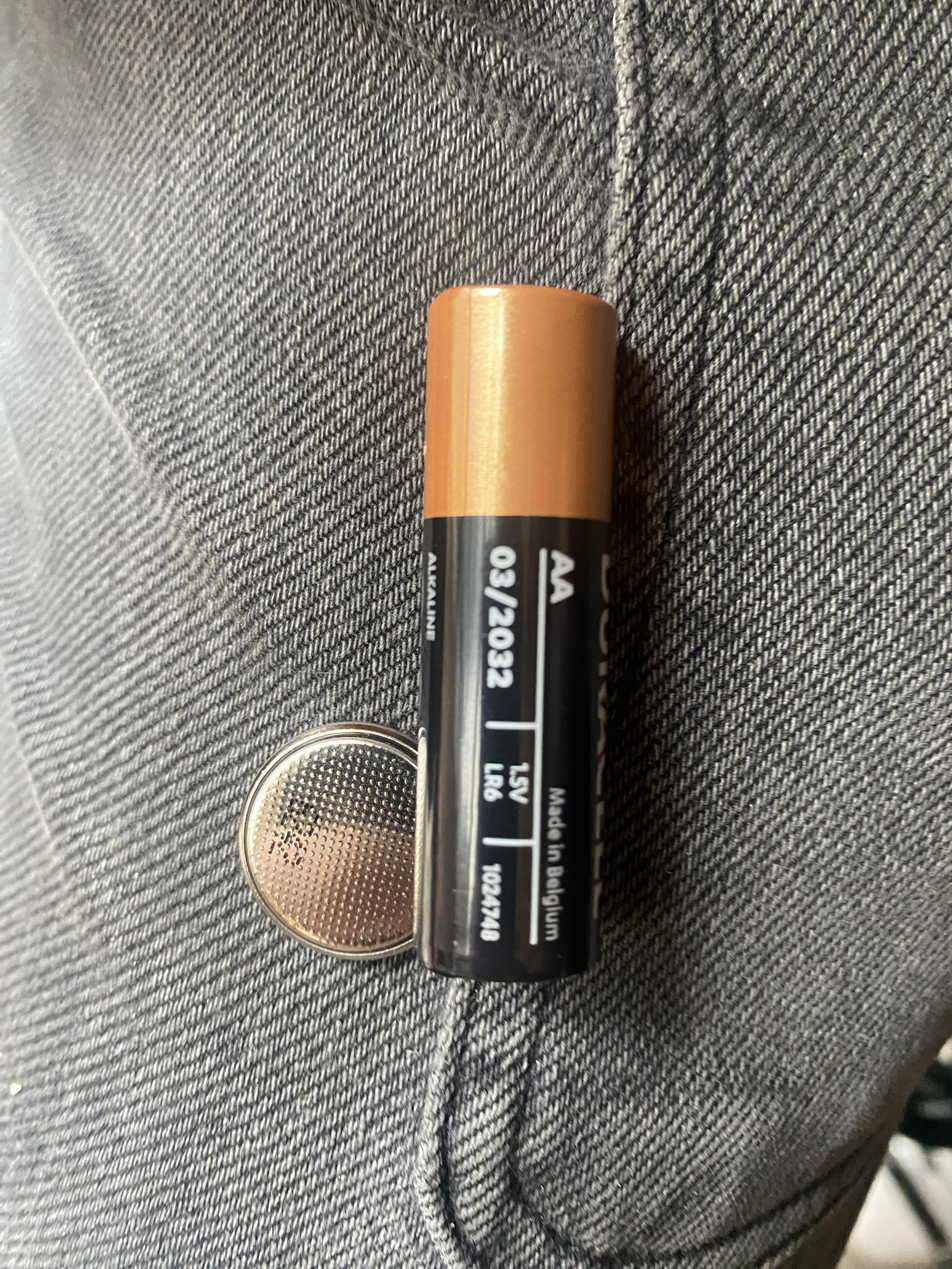AA: (413, 282, 619, 983)
